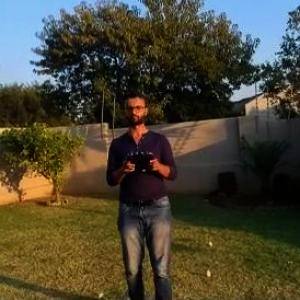follow: (103, 84, 186, 299)
